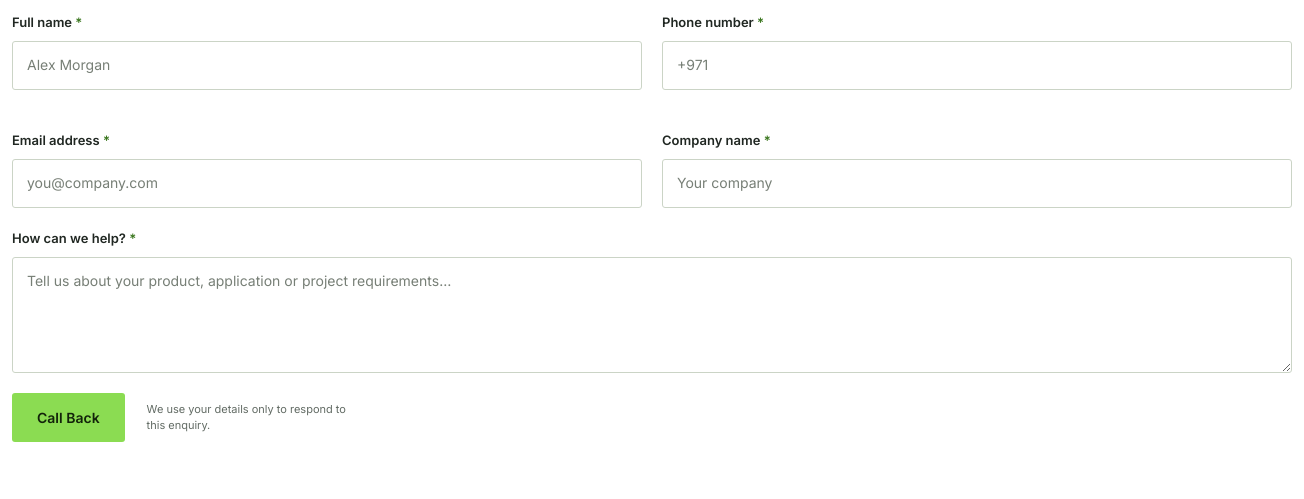
Scenario: Customer enquiry flow › prevents double clicks, preserves input and reuses the key after a lost response
Type "Customer" into the field labelled "Full name *".
click(327, 66); type("Customer")  # box [12, 41, 642, 90]
Type "123456789" into the field labelled "Phone number *".
click(977, 66); type("123456789")  # box [662, 41, 1292, 90]
Type "a@example.com" into the field labelled "Email address *".
click(327, 184); type("a@example.com")  # box [12, 159, 642, 208]
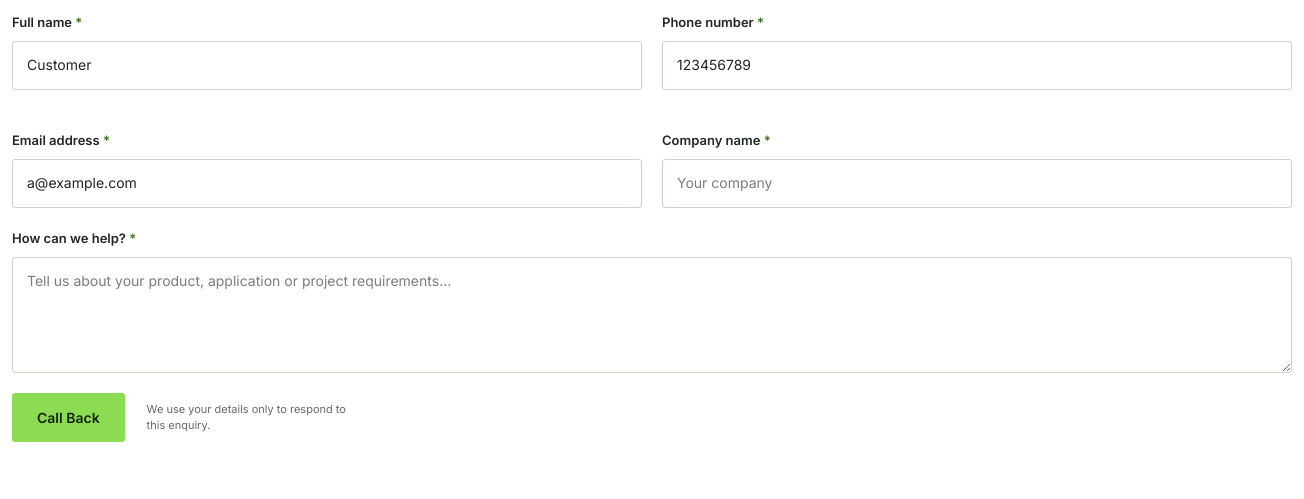
Type "Company" into the field labelled "Company name *".
click(977, 184); type("Company")  # box [662, 159, 1292, 208]
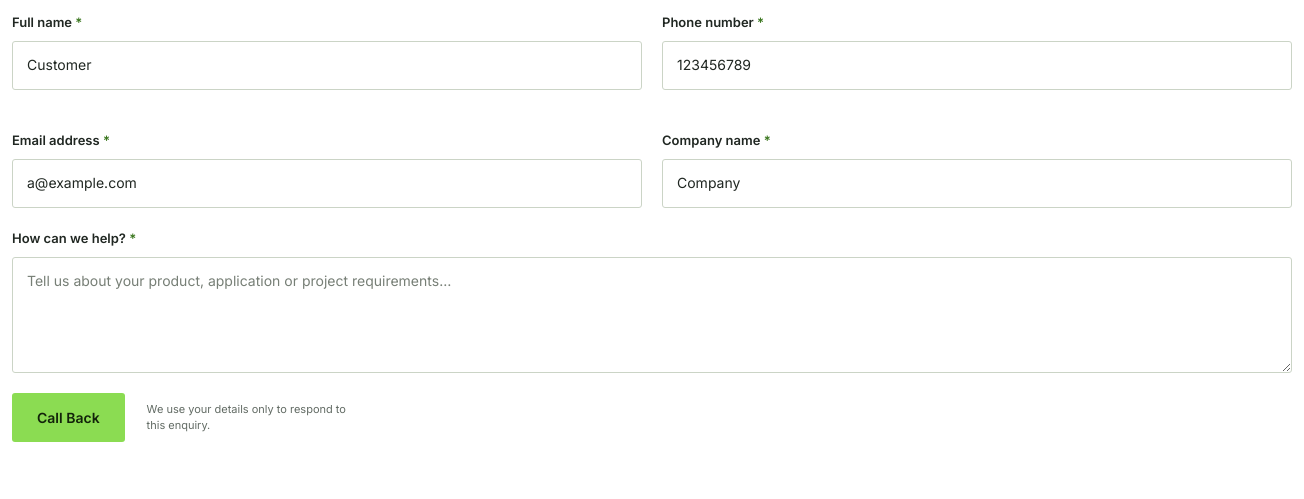
Replace the text in the text box labelled "How can we help? *" with "Please quote this motor." at (652, 315), box [12, 257, 1292, 373]
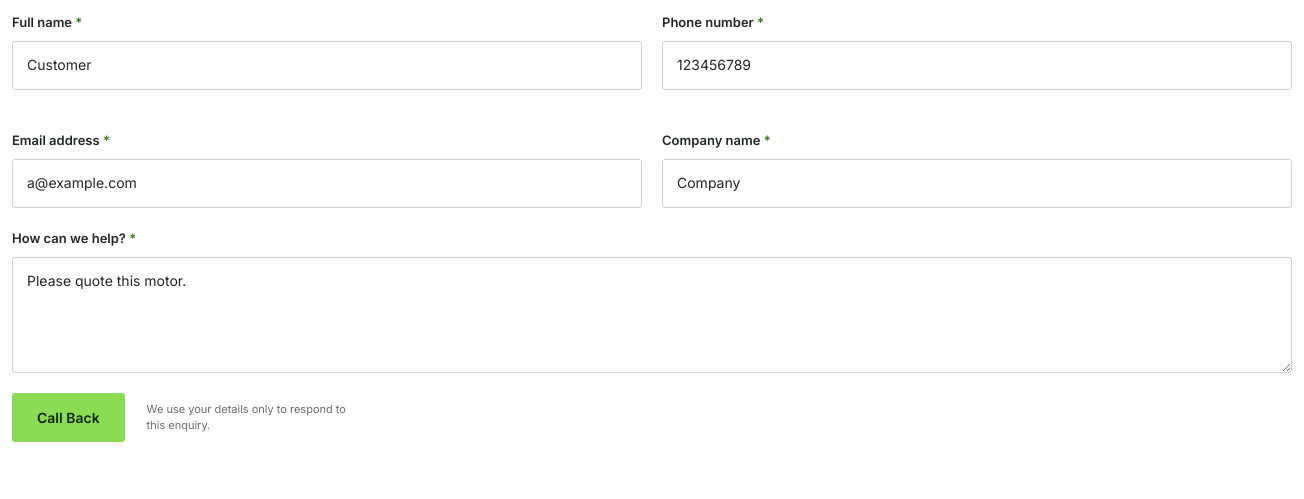
Click the button "Call Back".
click(68, 418)  # box [12, 393, 125, 442]
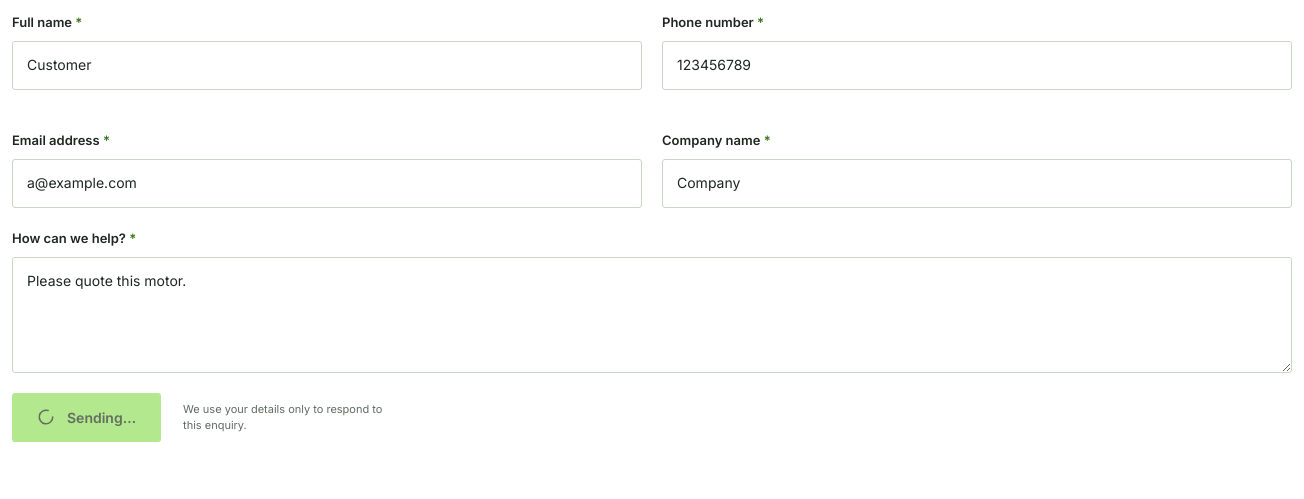
Click the button named "Call Back".
click(87, 418)  # box [12, 393, 161, 442]
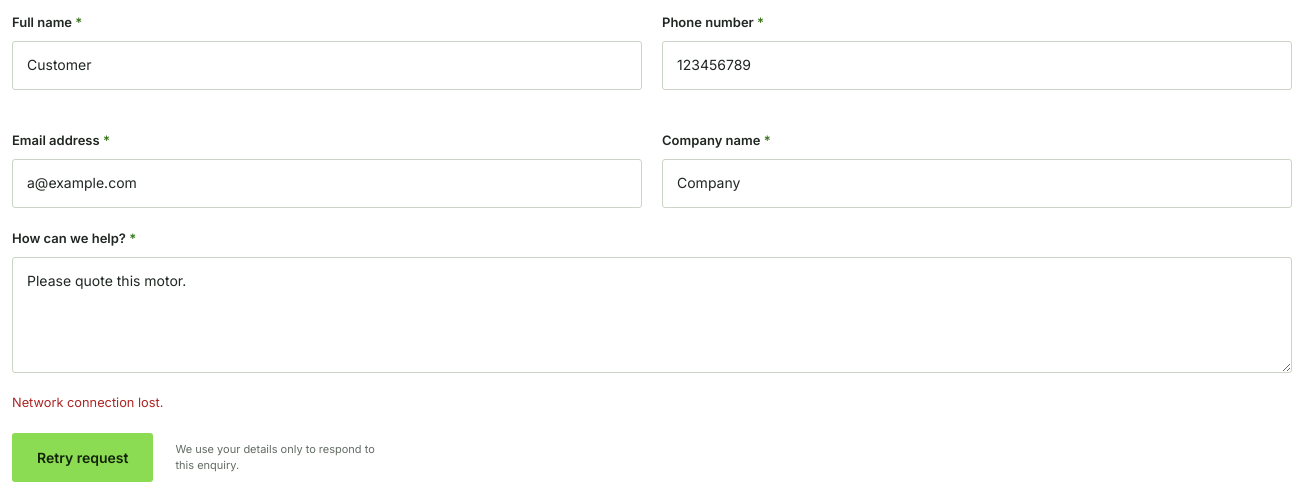
Now the message "Network connection lost." is shown, box [12, 395, 163, 410]
Click the button "Retry request".
click(83, 457)  # box [12, 433, 154, 482]
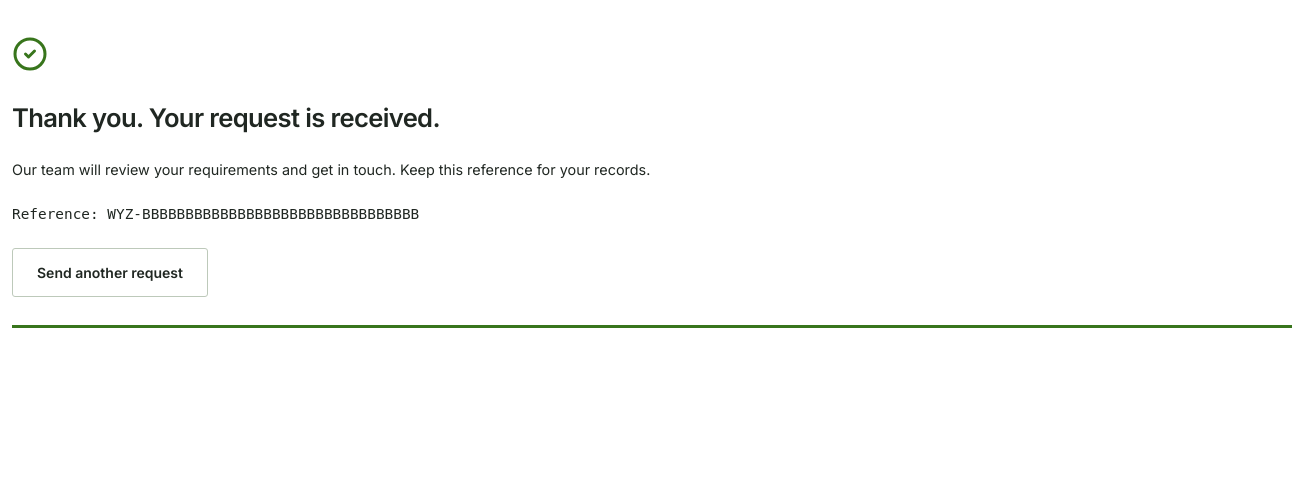
Now the heading "Thank you. Your request is received." is shown, box [12, 102, 440, 133]
